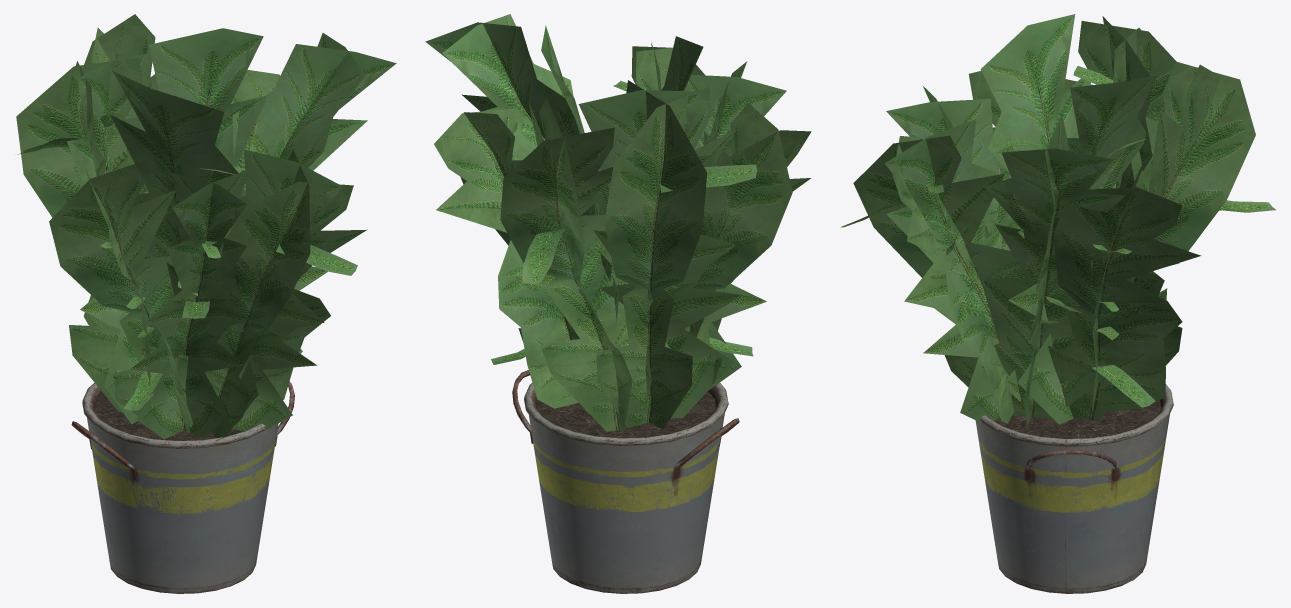
Rendered from sm70_001_greenherb01a.fbx.
The picture shows the model from 3 angles, left to right: view 1: azimuth 30°, elevation 25°; view 2: azimuth 150°, elevation 25°; view 3: azimuth 270°, elevation 25°; orthographic projection.
Parts seen in each view (by area): view 1: LOD_1_Group_0_Sub_2__lambert6_Mat__Env_AlphaTest, LOD_1_Group_2_Sub_1__sm70_002_RedHerb01A_B_Mat__Env_Default, LOD_1_Group_1_Sub_1__sm70_002_RedHerb01A_B_Mat__Env_Default, LOD_1_Group_0_Sub_1__sm70_002_RedHerb01A_B_Mat__Env_Default; view 2: LOD_1_Group_0_Sub_2__lambert6_Mat__Env_AlphaTest, LOD_1_Group_2_Sub_1__sm70_002_RedHerb01A_B_Mat__Env_Default, LOD_1_Group_1_Sub_1__sm70_002_RedHerb01A_B_Mat__Env_Default, LOD_1_Group_0_Sub_1__sm70_002_RedHerb01A_B_Mat__Env_Default; view 3: LOD_1_Group_0_Sub_2__lambert6_Mat__Env_AlphaTest, LOD_1_Group_2_Sub_1__sm70_002_RedHerb01A_B_Mat__Env_Default, LOD_1_Group_1_Sub_1__sm70_002_RedHerb01A_B_Mat__Env_Default, LOD_1_Group_0_Sub_1__sm70_002_RedHerb01A_B_Mat__Env_Default.
Part boxes in pixels (left/top/right/bottom): LOD_1_Group_0_Sub_2__lambert6_Mat__Env_AlphaTest: left=16, top=14, right=396, bottom=439; LOD_1_Group_2_Sub_1__sm70_002_RedHerb01A_B_Mat__Env_Default: left=82, top=382, right=278, bottom=593; LOD_1_Group_1_Sub_1__sm70_002_RedHerb01A_B_Mat__Env_Default: left=94, top=394, right=243, bottom=440; LOD_1_Group_0_Sub_1__sm70_002_RedHerb01A_B_Mat__Env_Default: left=71, top=381, right=294, bottom=480; LOD_1_Group_0_Sub_2__lambert6_Mat__Env_AlphaTest: left=425, top=14, right=811, bottom=433; LOD_1_Group_2_Sub_1__sm70_002_RedHerb01A_B_Mat__Env_Default: left=524, top=382, right=728, bottom=593; LOD_1_Group_1_Sub_1__sm70_002_RedHerb01A_B_Mat__Env_Default: left=536, top=391, right=716, bottom=438; LOD_1_Group_0_Sub_1__sm70_002_RedHerb01A_B_Mat__Env_Default: left=512, top=370, right=739, bottom=478; LOD_1_Group_0_Sub_2__lambert6_Mat__Env_AlphaTest: left=840, top=14, right=1275, bottom=426; LOD_1_Group_2_Sub_1__sm70_002_RedHerb01A_B_Mat__Env_Default: left=975, top=384, right=1173, bottom=593; LOD_1_Group_1_Sub_1__sm70_002_RedHerb01A_B_Mat__Env_Default: left=994, top=400, right=1161, bottom=438; LOD_1_Group_0_Sub_1__sm70_002_RedHerb01A_B_Mat__Env_Default: left=1025, top=450, right=1118, bottom=480.
Bounding box in the file's own units: 0.5006 × 0.6853 × 0.5266.
